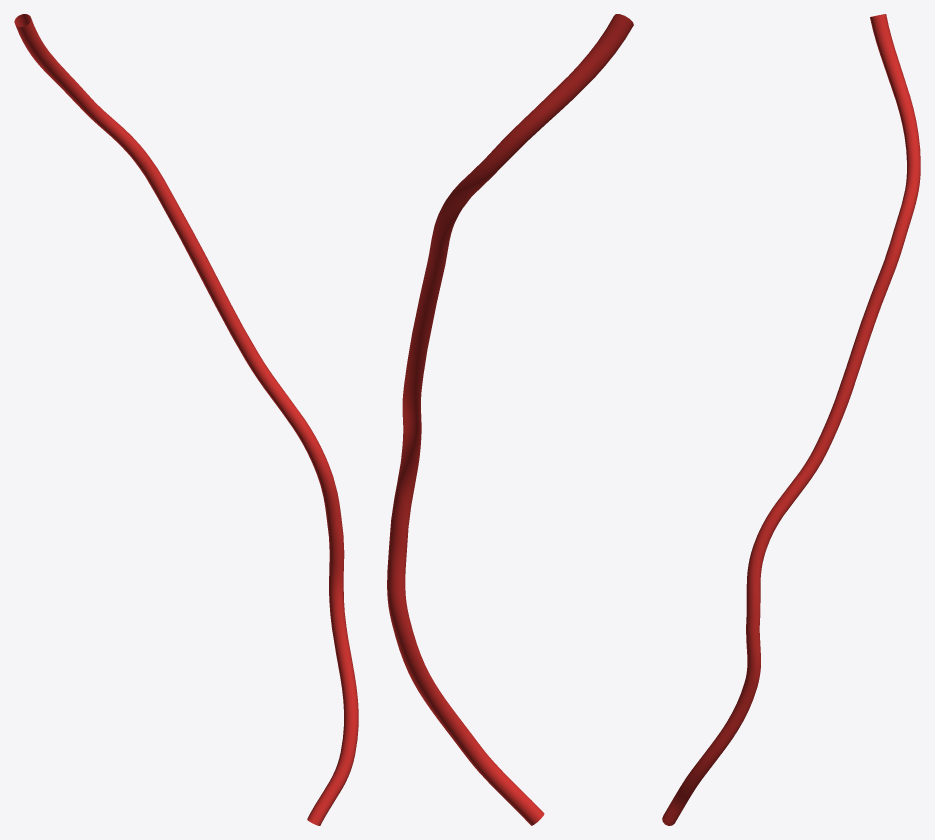
The model's file is circulatorio-radial-collateral-artery-l.glb.
The picture shows the model from 3 angles, left to right: view 1: azimuth 30°, elevation 25°; view 2: azimuth 150°, elevation 25°; view 3: azimuth 270°, elevation 25°; orthographic projection. The views are drawn at different scales.
Visible parts, largest first — view 1: Radial collateral artery.l; view 2: Radial collateral artery.l; view 3: Radial collateral artery.l.
Part boxes in pixels (box(x1,y1,x2,y2)): Radial collateral artery.l: box(14, 14, 358, 825); Radial collateral artery.l: box(387, 14, 633, 825); Radial collateral artery.l: box(662, 14, 920, 825).
Size of the model in its own units: 0.0509 by 0.1437 by 0.0462.
